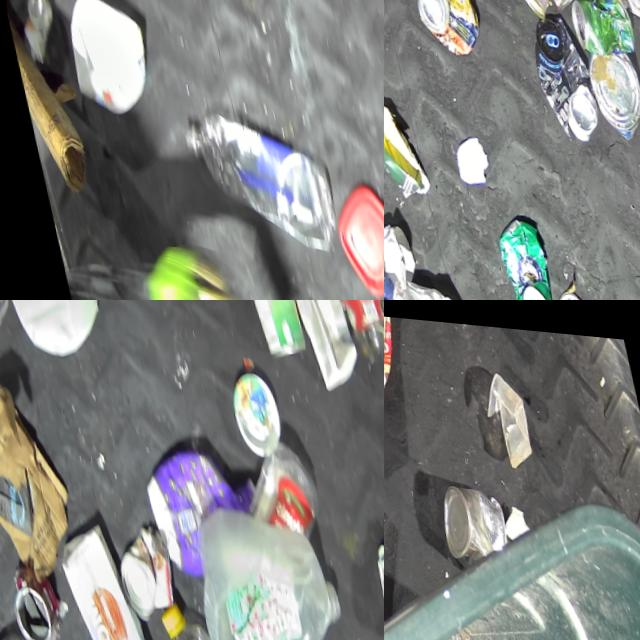can: (522, 4, 603, 141), (92, 494, 171, 630), (432, 468, 513, 565), (487, 207, 554, 300), (580, 39, 640, 137), (407, 0, 482, 57), (562, 0, 633, 54), (6, 0, 61, 67), (547, 281, 587, 300), (504, 0, 553, 15)
non_white_jug: (178, 474, 352, 640), (384, 303, 419, 421)
plastic_bottle: (173, 86, 339, 267), (147, 588, 247, 640)
